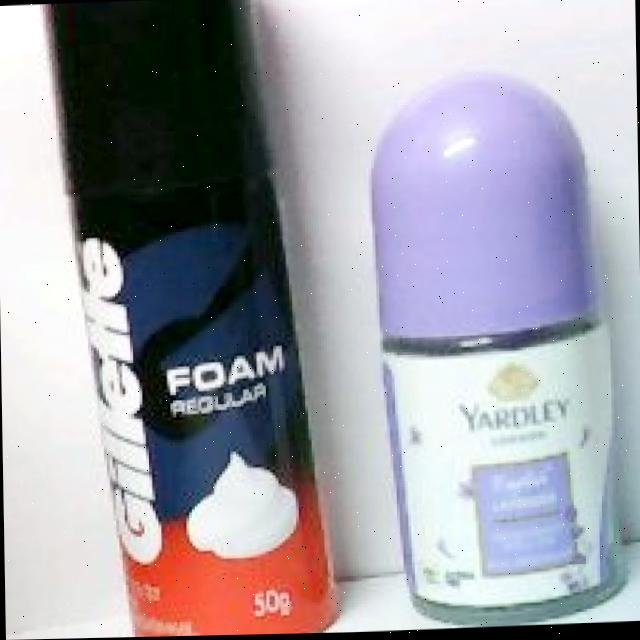gillette-foam: (40, 0, 342, 638)
yardley_rollon: (371, 71, 628, 624)
